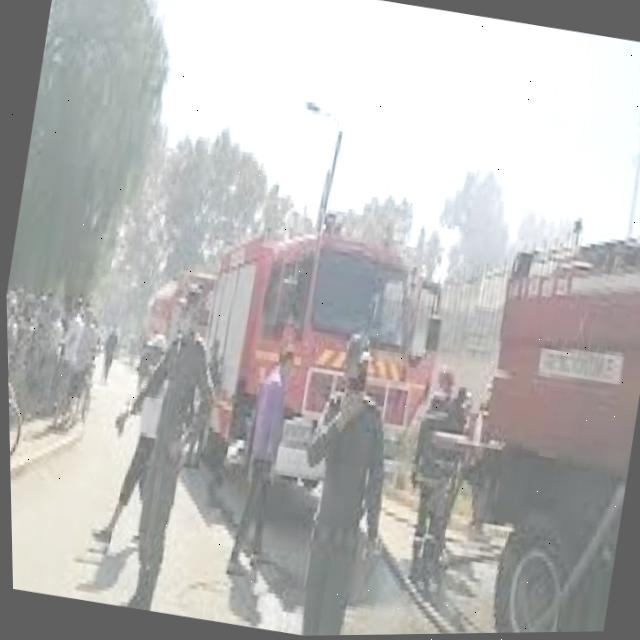emergency: (158, 204, 441, 505)
